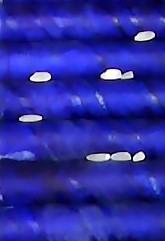broken_grain: (132, 150, 146, 165), (121, 70, 135, 81)
complete_grain: (18, 112, 46, 128), (27, 69, 53, 84), (85, 151, 112, 165), (99, 68, 122, 83), (110, 150, 132, 165), (133, 29, 156, 43)
